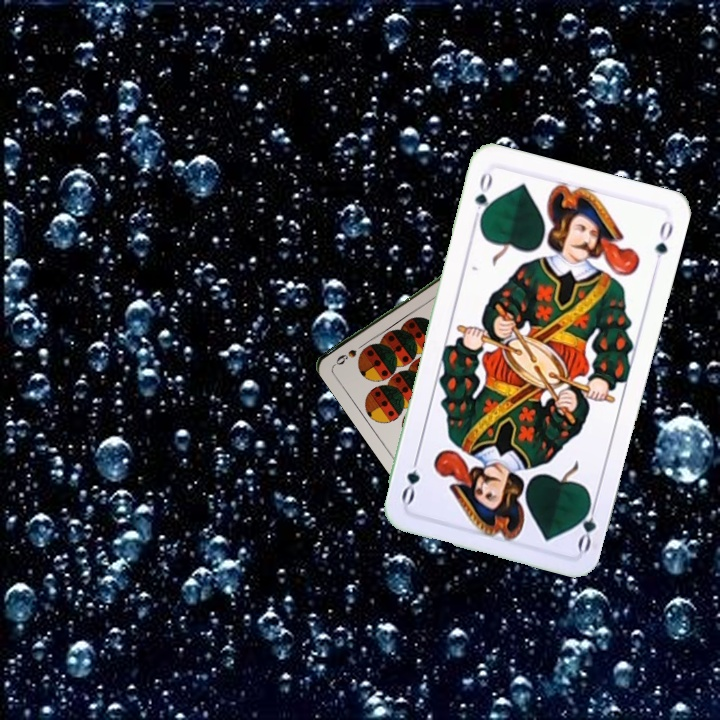GO: (573, 494, 600, 554), (469, 168, 496, 226)
